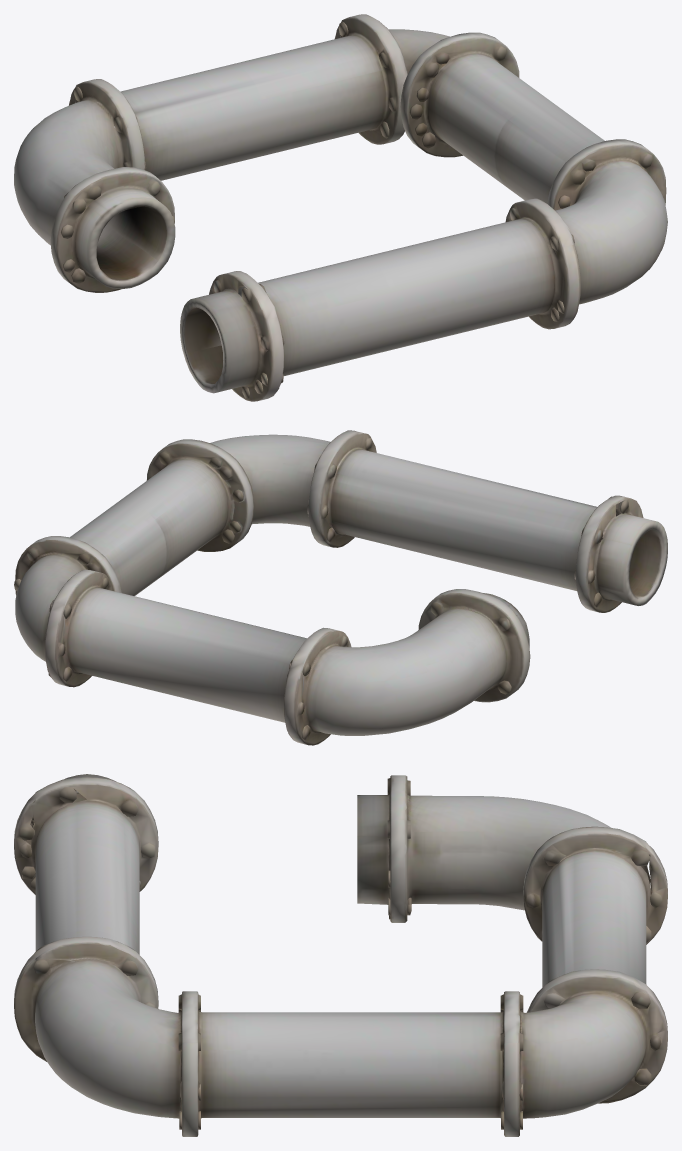
File: l-shaped_industrial_pipe_f7fd8524_v3.glb
3 renders of one model, top to bottom at view 1: azimuth 30°, elevation 25°; view 2: azimuth 150°, elevation 25°; view 3: azimuth 270°, elevation 25°, orthographic. The views are drawn at different scales.
Visible parts, largest first — view 1: material; view 2: material; view 3: material.
Boxes of the visible parts, x1,y1,x2,y2 form: material: [14, 14, 667, 401]; material: [14, 430, 667, 745]; material: [14, 774, 667, 1136].
Size of the model in its own units: 1.9 by 0.4121 by 1.9.
1 material, 1 textured.
